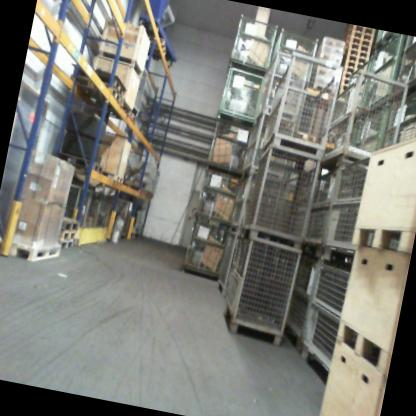pallet: (0, 231, 64, 268), (51, 150, 103, 186), (69, 66, 126, 94), (72, 80, 122, 110), (137, 30, 170, 58), (58, 214, 79, 238), (342, 70, 373, 86), (345, 28, 372, 45), (55, 235, 75, 256), (343, 47, 372, 60), (339, 59, 366, 72), (106, 175, 128, 190), (342, 53, 368, 65), (345, 36, 371, 48), (58, 227, 77, 243), (346, 24, 374, 34), (344, 42, 370, 52), (124, 113, 137, 132), (340, 67, 366, 76), (338, 76, 351, 87), (337, 85, 350, 94)
stillage: (318, 63, 412, 187), (288, 262, 368, 407), (217, 230, 301, 351), (259, 48, 343, 167), (239, 141, 322, 248), (320, 151, 389, 269), (297, 155, 351, 265), (355, 30, 408, 125), (278, 252, 322, 351), (241, 107, 297, 184), (262, 26, 320, 95), (51, 182, 104, 254), (190, 164, 246, 229), (256, 55, 308, 123), (227, 7, 280, 73), (352, 91, 398, 164), (201, 115, 254, 177), (212, 63, 263, 123), (181, 216, 228, 281), (385, 74, 416, 163), (215, 229, 247, 303), (83, 193, 114, 249), (394, 37, 416, 107), (126, 55, 149, 117), (105, 194, 134, 242), (125, 200, 151, 250), (230, 174, 254, 225)
